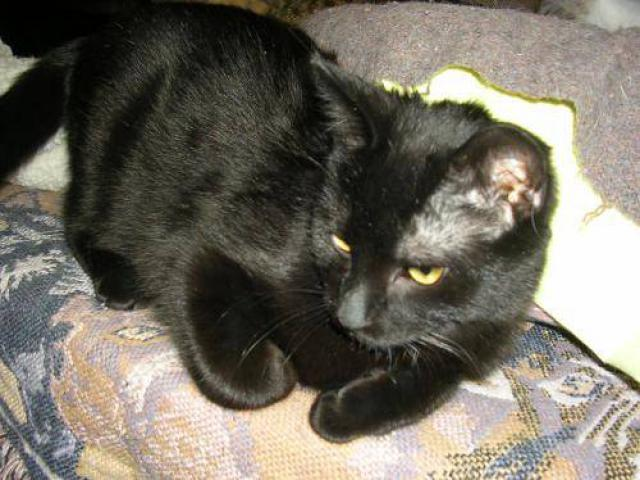cat: (5, 8, 597, 430)
